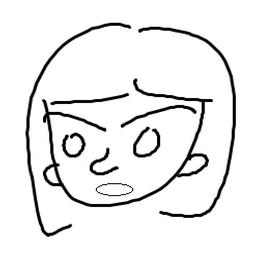ear: (180, 151, 213, 185), (39, 160, 62, 187)
empty_eye: (129, 125, 164, 165), (57, 130, 85, 159)
frowning_eyebrow: (116, 102, 201, 130), (37, 107, 106, 134)
nose: (88, 147, 120, 177)
open_mouth: (96, 178, 132, 199)
